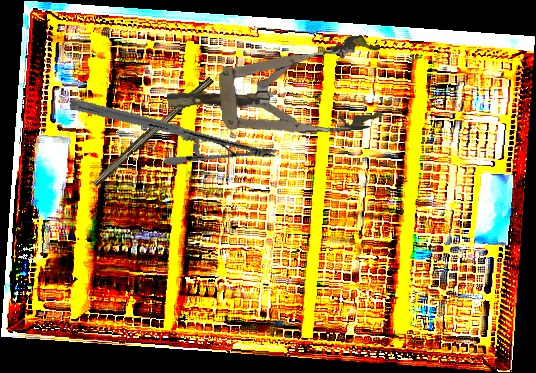Needle Holder: (67, 51, 279, 207)
Scalpel Handle: (90, 72, 214, 190)
Speculum: (163, 33, 387, 147)
